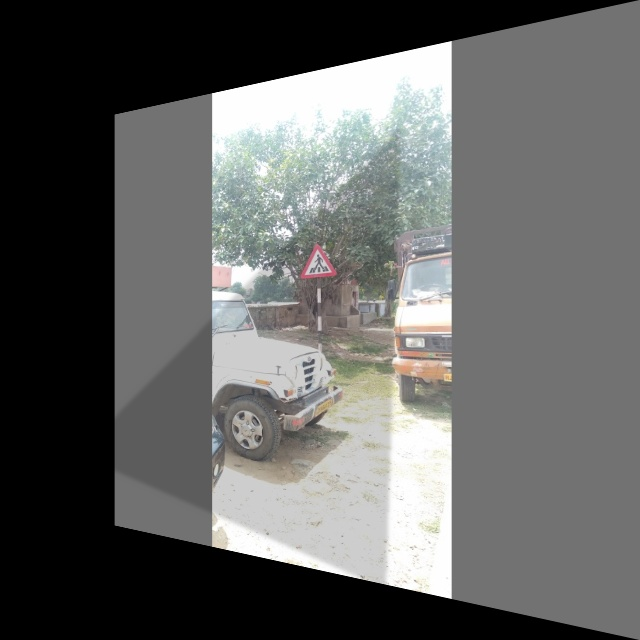Pedestrian_Crossing: (296, 235, 346, 282)
